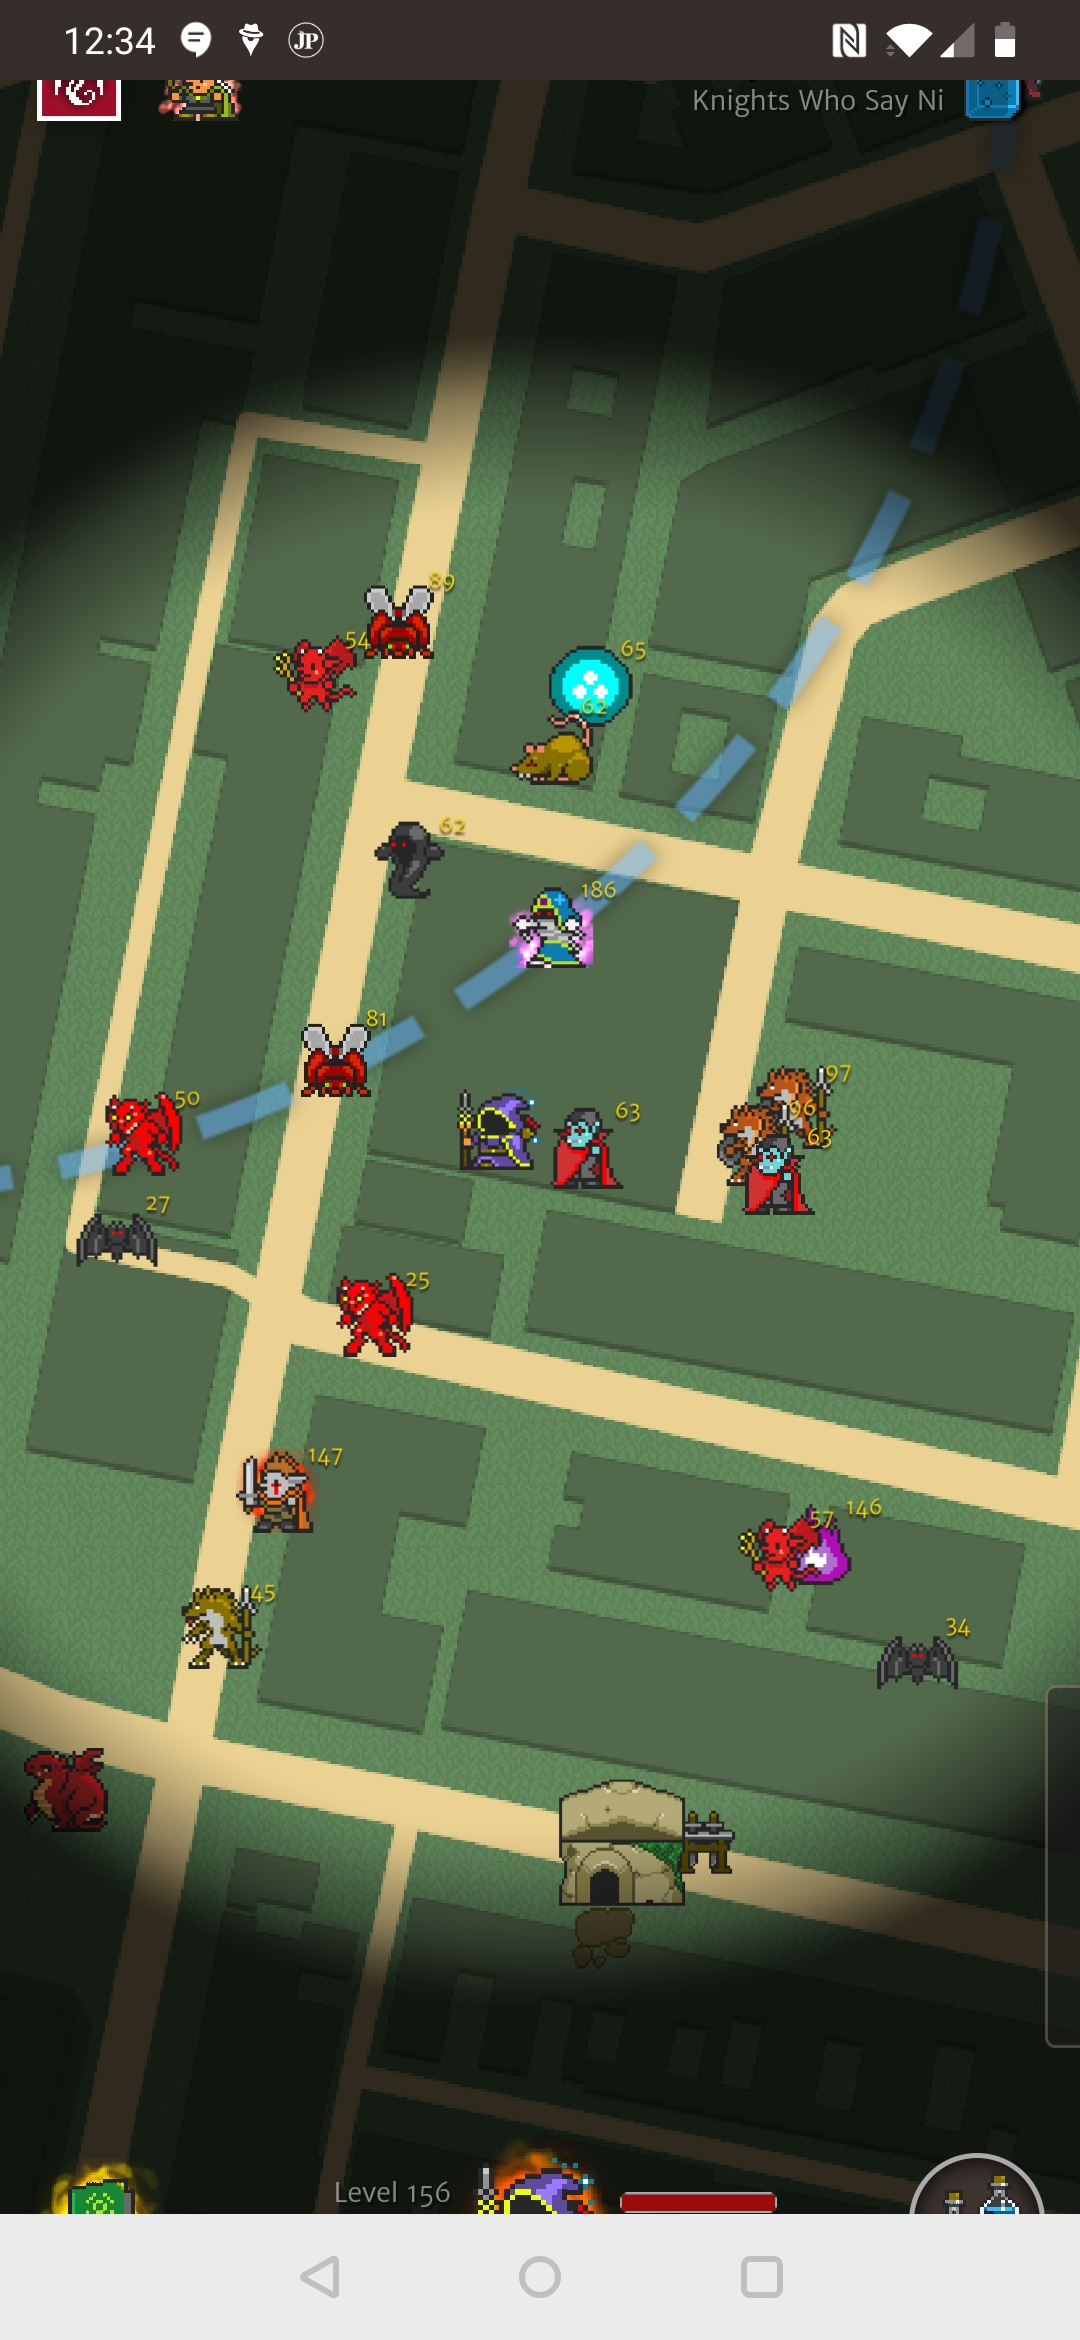monster: (500, 863, 633, 978), (536, 632, 682, 730), (282, 996, 400, 1117), (262, 635, 390, 743), (331, 1268, 438, 1378), (369, 568, 480, 673), (869, 1607, 985, 1709), (380, 820, 480, 935), (241, 1443, 349, 1545), (67, 1191, 182, 1284), (797, 1484, 895, 1591), (508, 702, 615, 799), (103, 1086, 203, 1186), (180, 1581, 282, 1676), (546, 1102, 646, 1194), (764, 1055, 851, 1158), (736, 1502, 836, 1589), (721, 1099, 815, 1189), (746, 1132, 831, 1217)
player: (456, 1084, 551, 1178)
